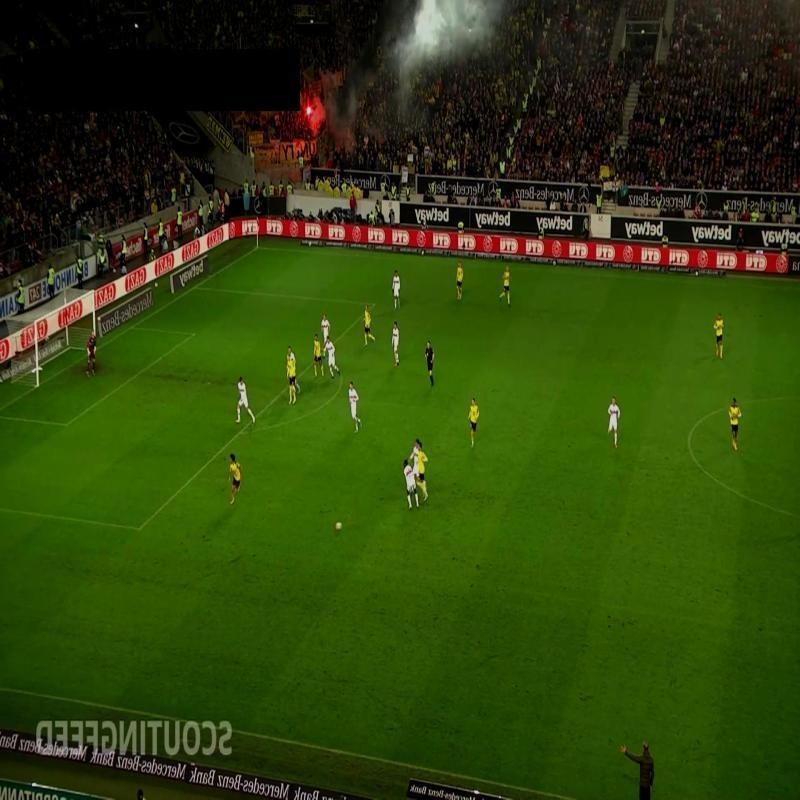1: (250, 241, 264, 255)
10: (312, 350, 326, 364)
11: (233, 426, 246, 440)
12: (133, 523, 147, 537)
2: (188, 279, 202, 293)
3: (126, 319, 140, 333)
7: (186, 326, 200, 340)
8: (59, 417, 73, 431)
9: (366, 296, 380, 310)
c: (682, 432, 696, 446)
